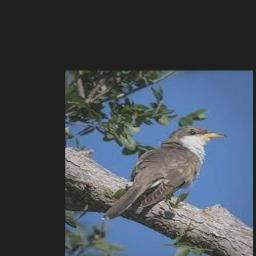Cuckoo: (100, 126, 226, 220)
